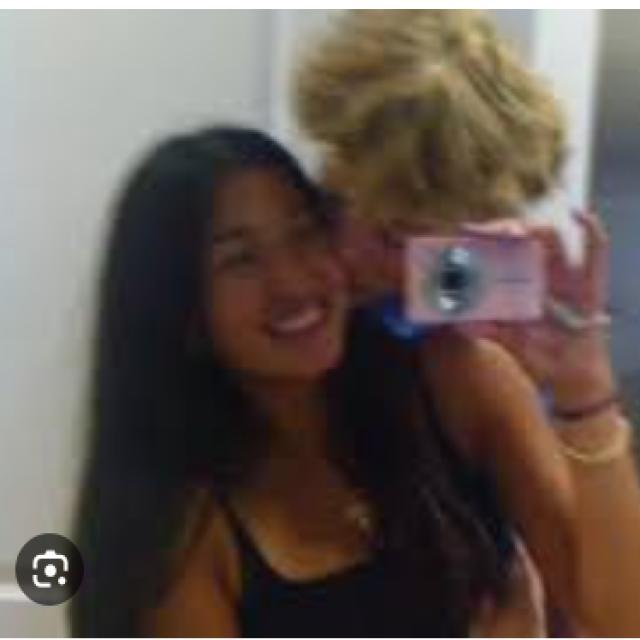face_no_mask: (190, 170, 350, 370)
